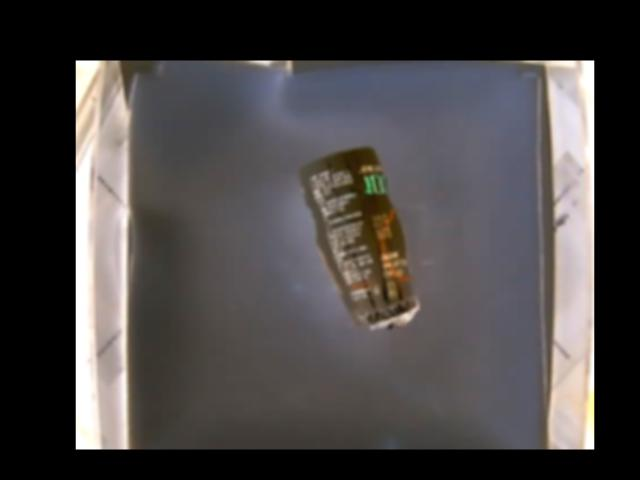Bottle: (300, 147, 420, 331)
